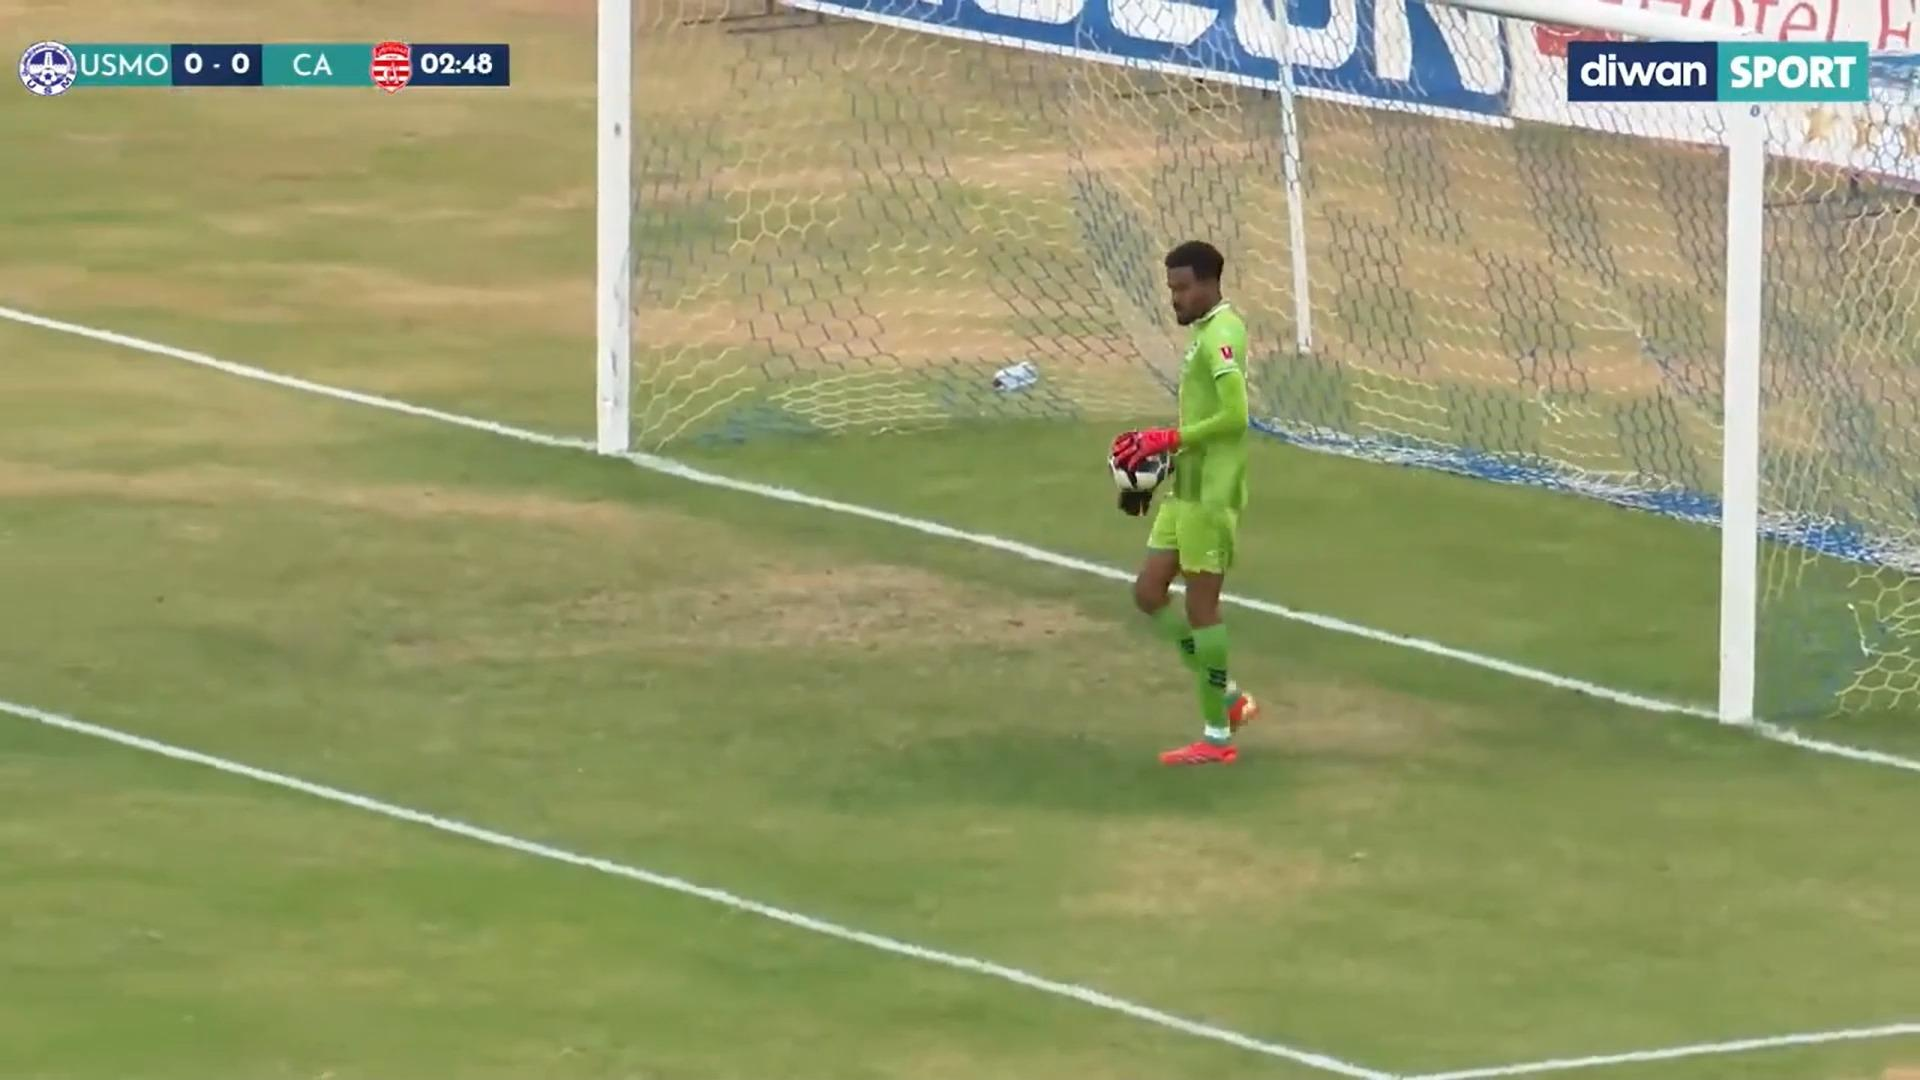ball: (1101, 409, 1195, 509)
goalkeeper: (1091, 211, 1315, 802)
